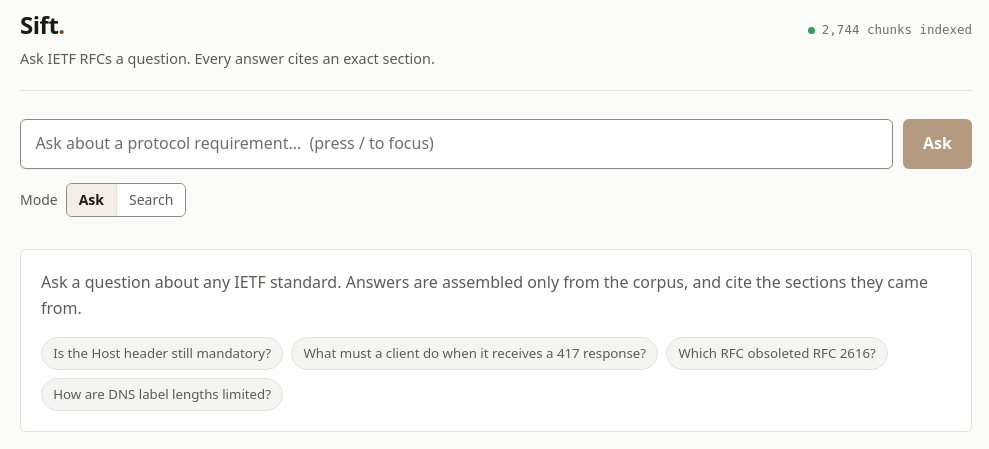
accessibility › does not hijack / while the user is typing
Expected: the text "2,744 chunks indexed" is shown, [808,20,972,40]
Click the search field at (457, 144), box [20,119,893,169]
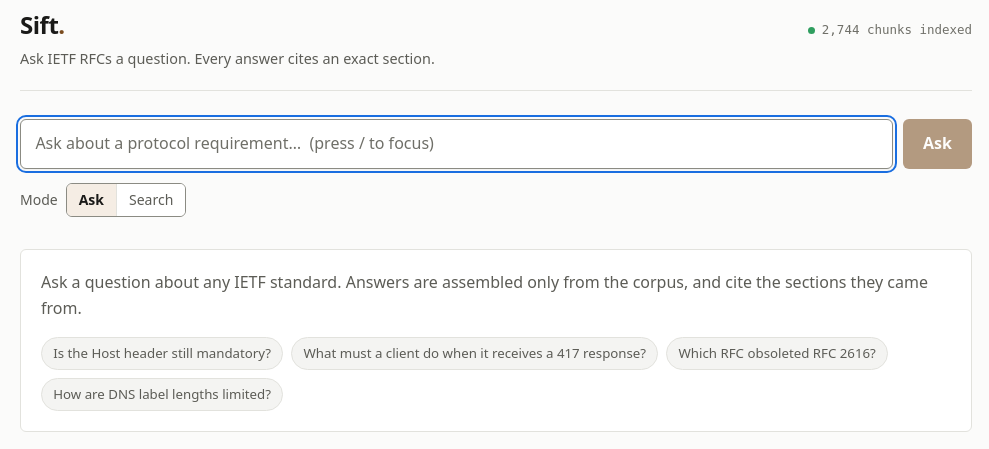
Type keys "application/json"
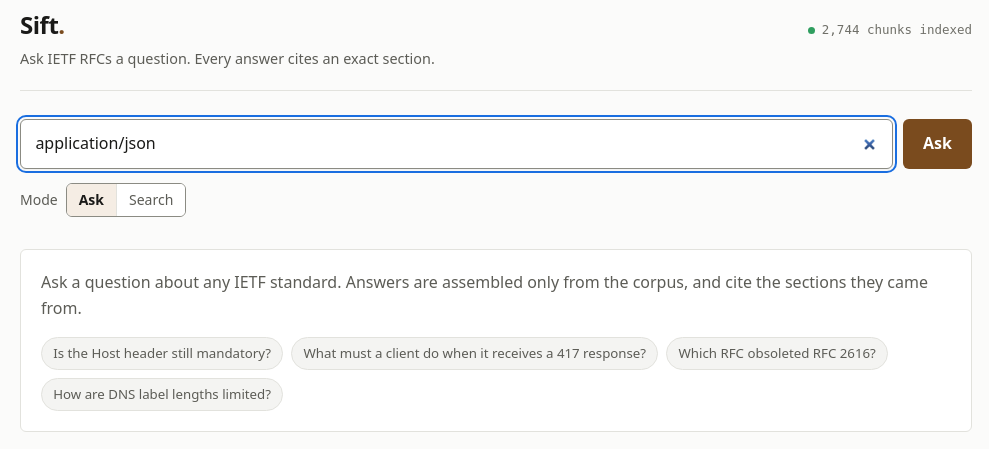
Now the search field holds "application/json", box [20,119,893,169]
